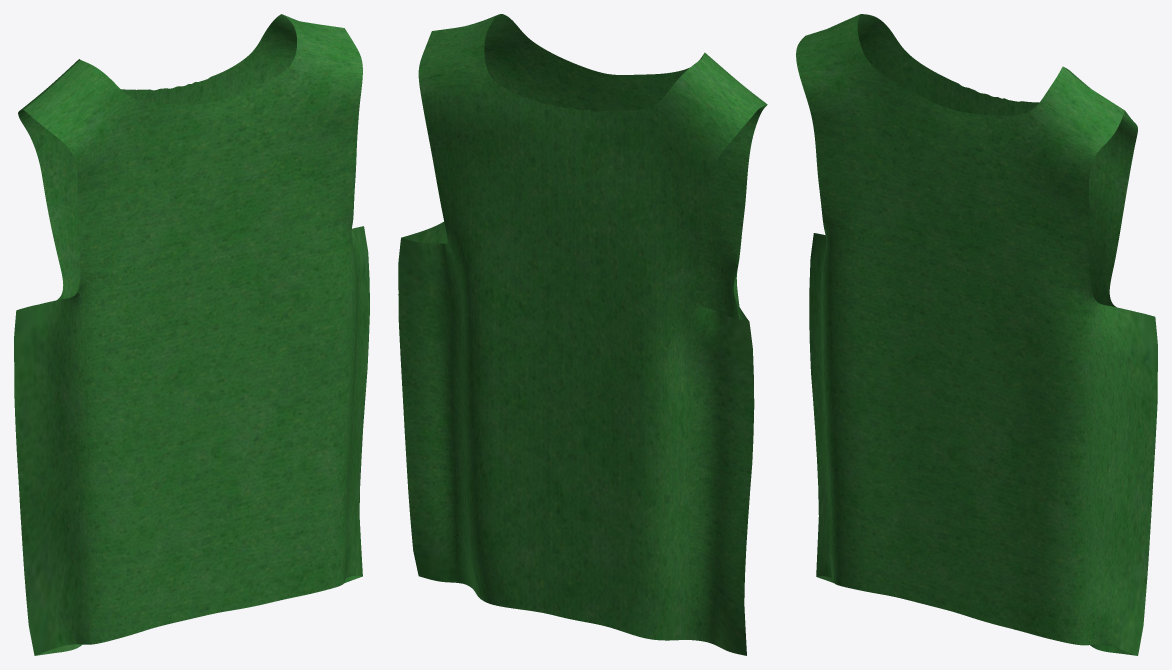
File: Canottiera.fbx
3 renders of one model, left to right at view 1: azimuth 30°, elevation 25°; view 2: azimuth 150°, elevation 25°; view 3: azimuth 330°, elevation 25°, orthographic. The views are drawn at different scales.
Visible parts, largest first — view 1: SaloneT-Shirt.009; view 2: SaloneT-Shirt.009; view 3: SaloneT-Shirt.009.
Part boxes in pixels (x1=…): SaloneT-Shirt.009: x1=14, y1=14, x2=369, y2=655; SaloneT-Shirt.009: x1=398, y1=14, x2=767, y2=655; SaloneT-Shirt.009: x1=796, y1=14, x2=1157, y2=655.
Size of the model in its own units: 275 by 434 by 63.31.
